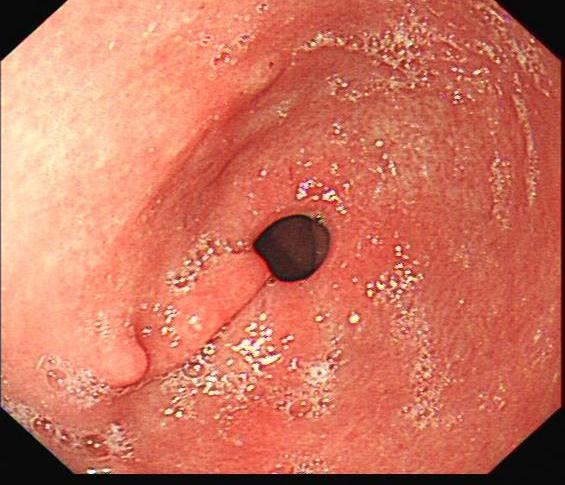Polyp: (90, 324, 154, 393)
